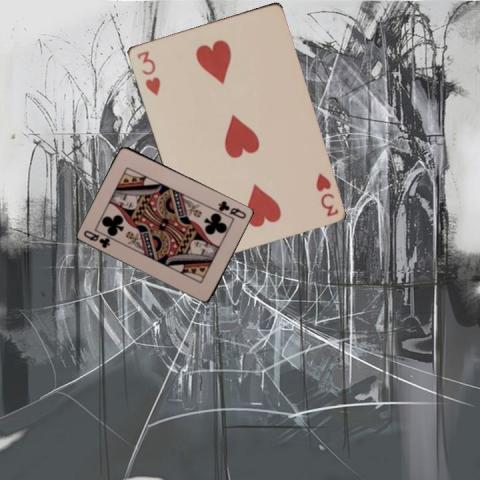3h: (134, 48, 162, 97), (312, 170, 339, 218)
Qc: (216, 197, 248, 220), (81, 228, 112, 250)
